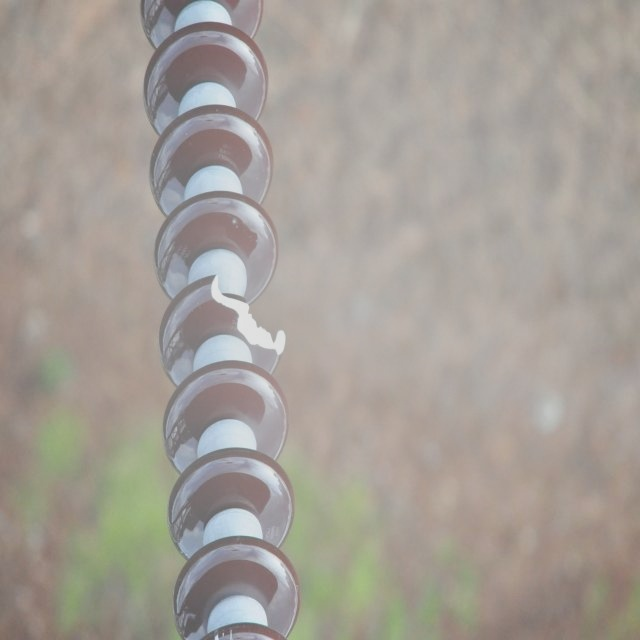broken: (208, 273, 287, 356)
insulator: (138, 0, 303, 637)
